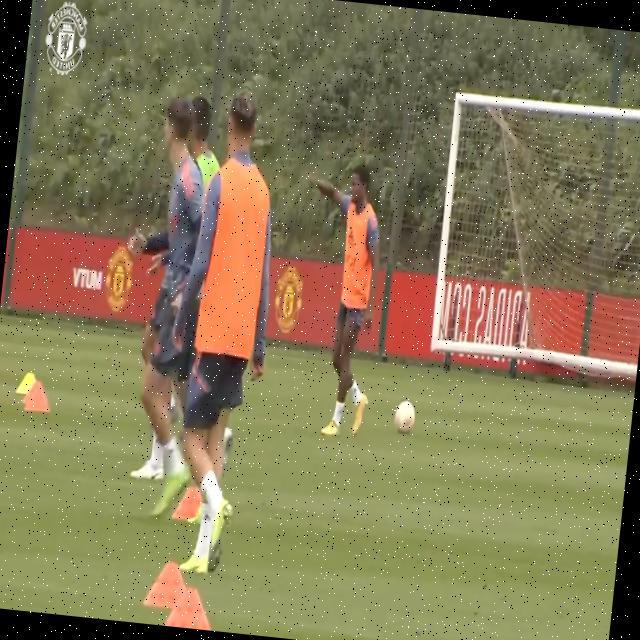Adidas: (346, 227, 357, 248)
